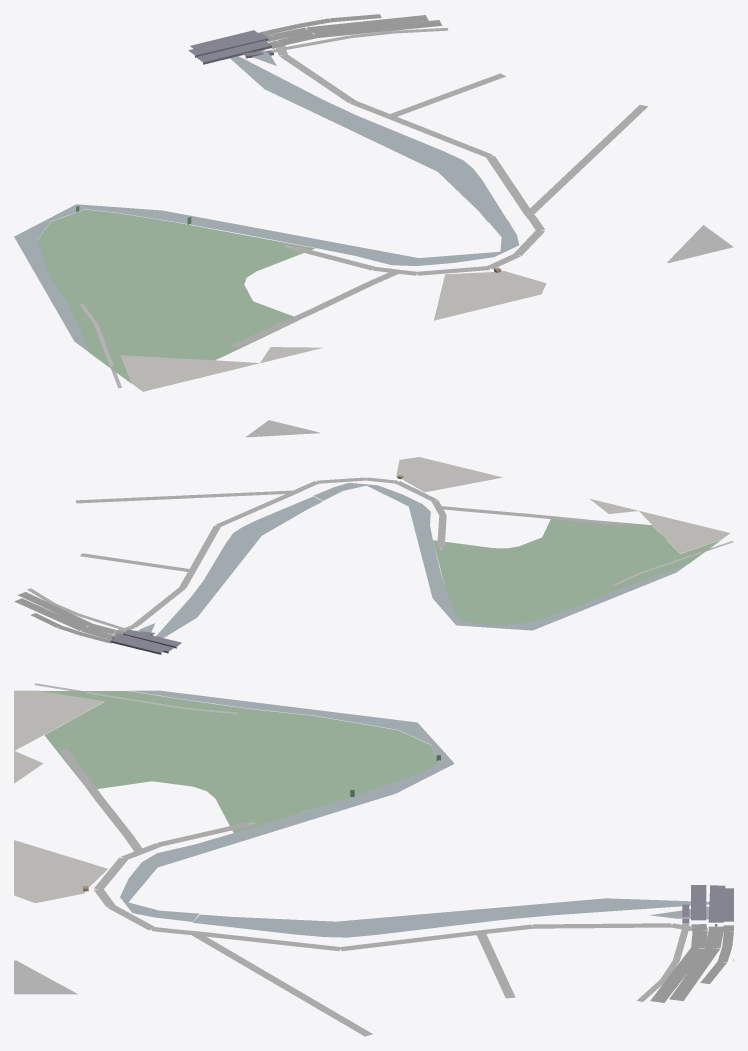
The picture shows the model from 3 angles, top to bottom: view 1: azimuth 30°, elevation 25°; view 2: azimuth 150°, elevation 25°; view 3: azimuth 270°, elevation 25°; orthographic projection. The views are drawn at different scales.
Bounding box in the file's own units: 581 × 8.97 × 500.
